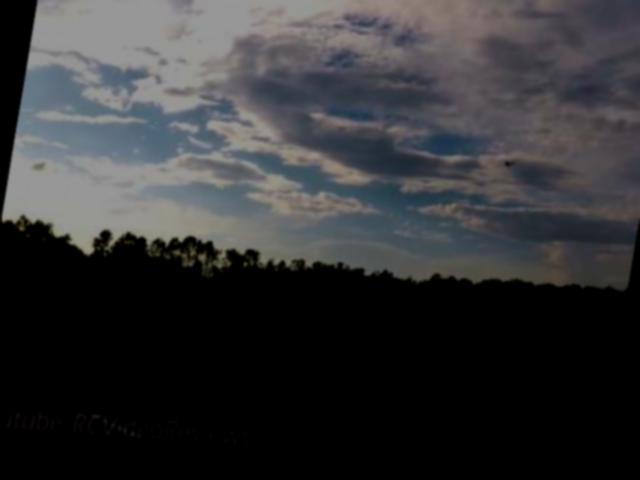uav: (497, 160, 519, 185)
